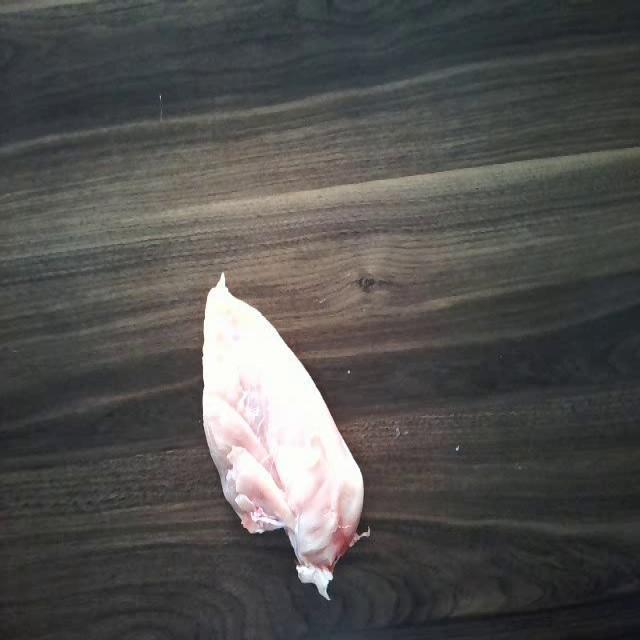breast: (198, 274, 374, 586)
